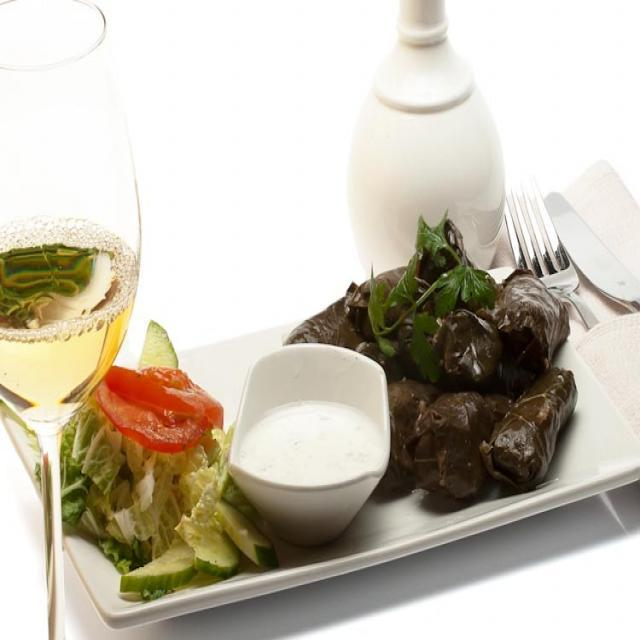wara enab: (383, 251, 589, 497)
